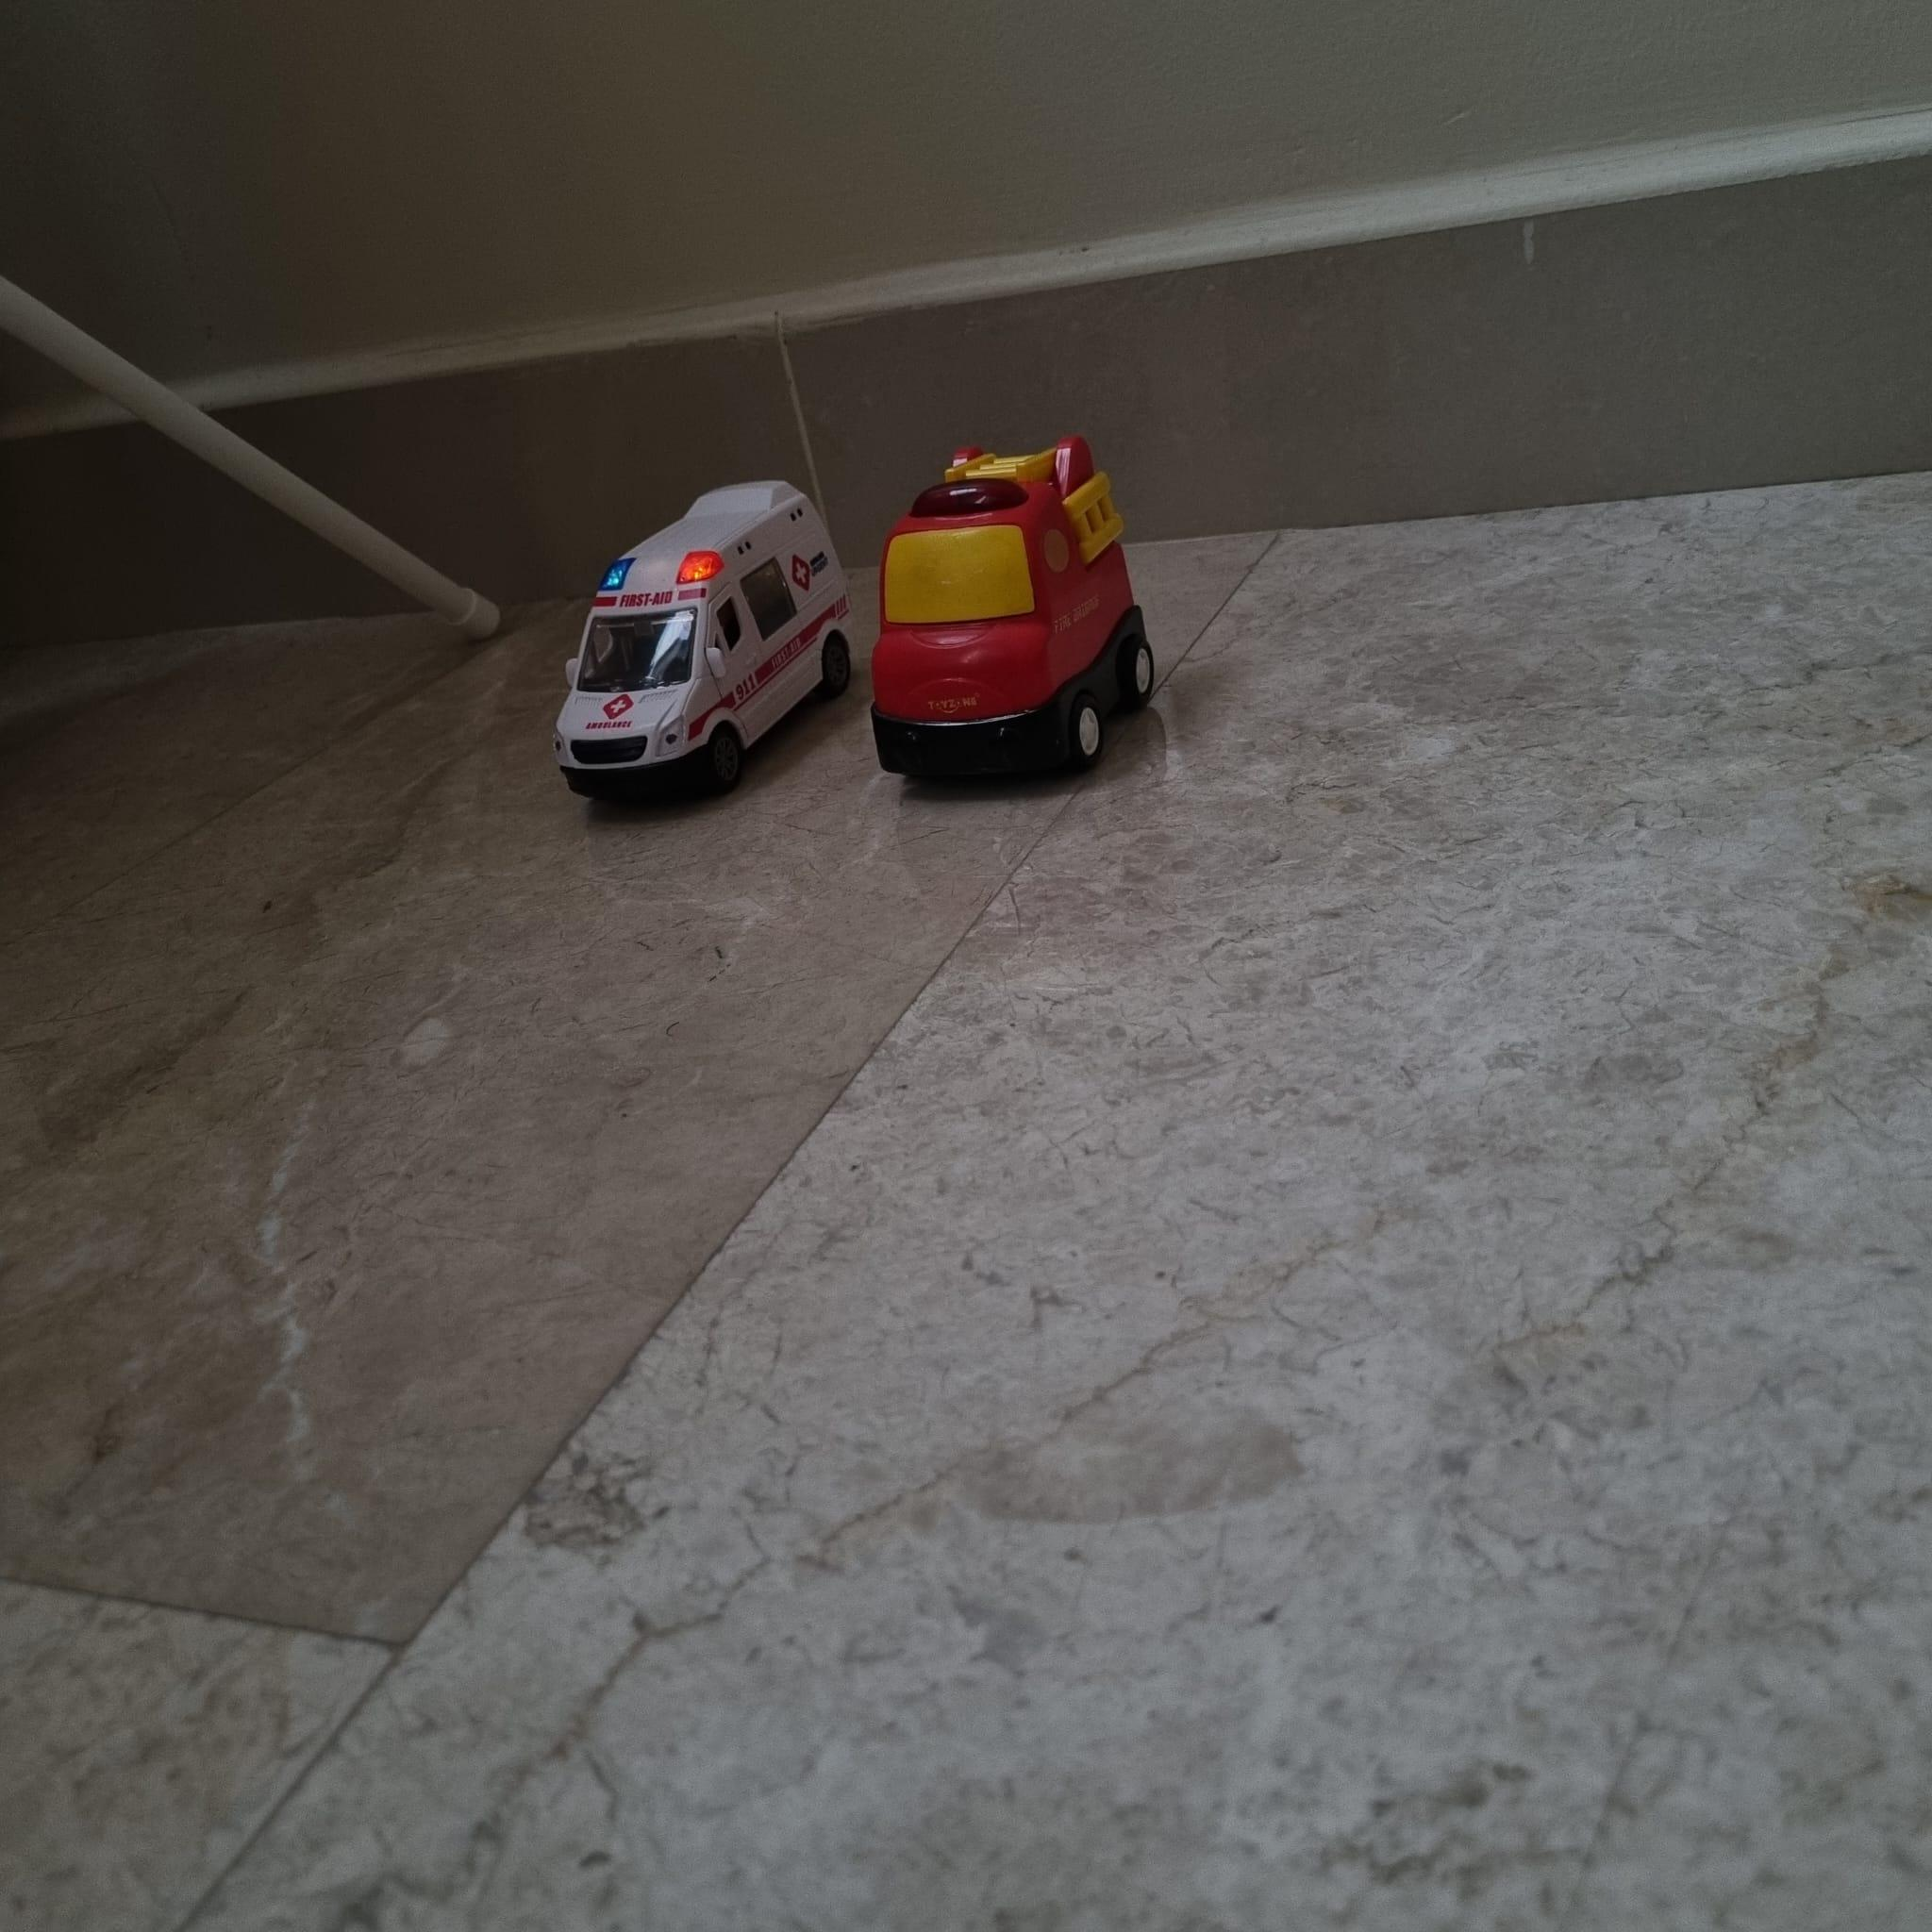ambulance_on: (554, 478, 853, 810)
firetruck_off: (870, 428, 1154, 791)
